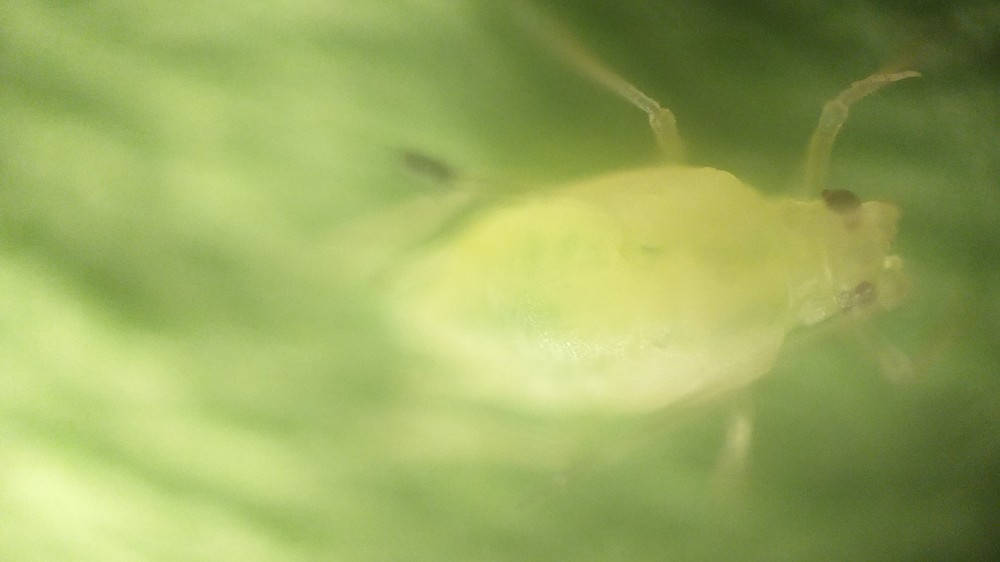Pulgon: (324, 20, 991, 513)
